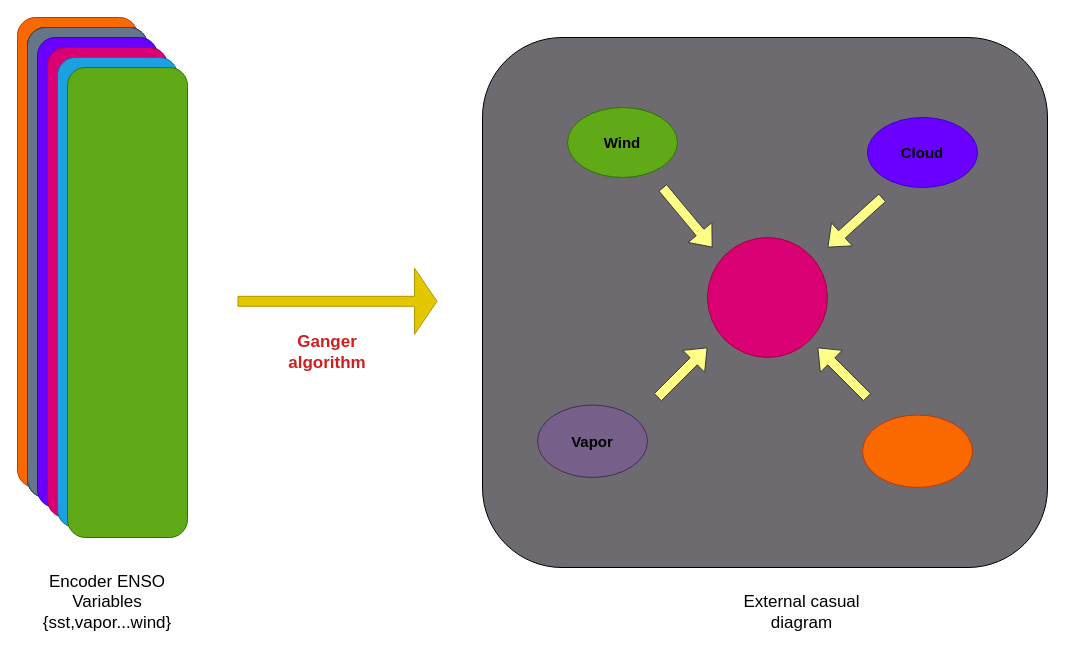
This 1065x650 diagram has some shape labels left out. The box of each missing label's shape, as (x1, y1, x2, y2) in pixels:
Rain: (862, 414, 972, 488)
SST: (706, 236, 828, 358)
